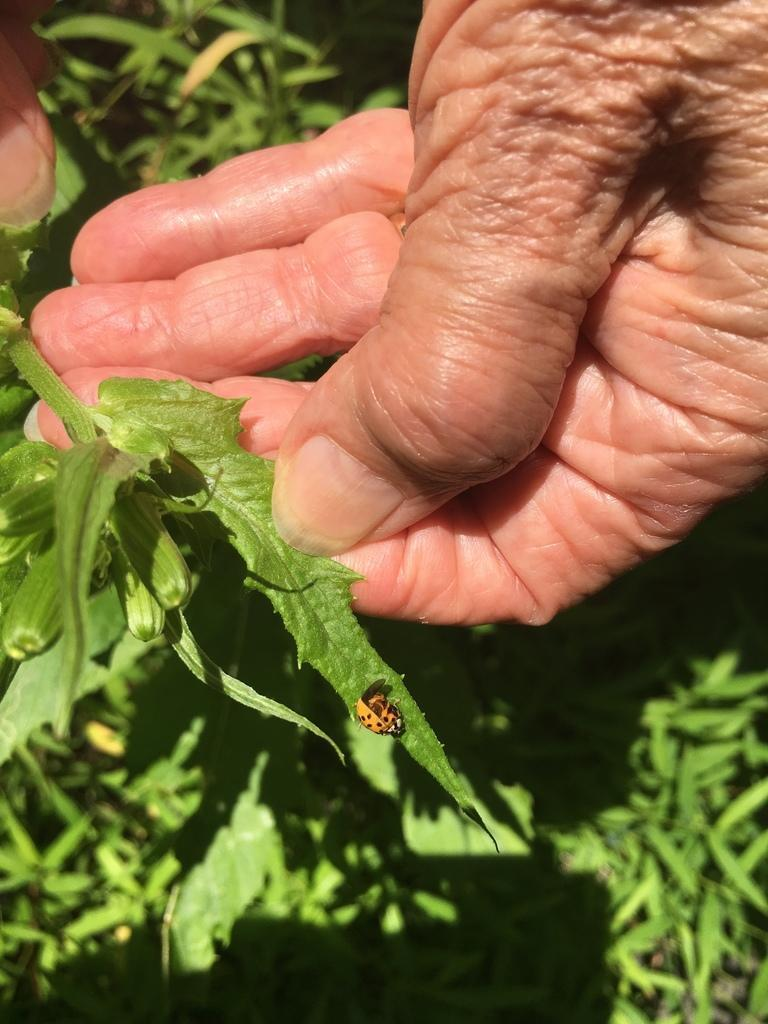ladybug: (355, 678, 405, 737)
